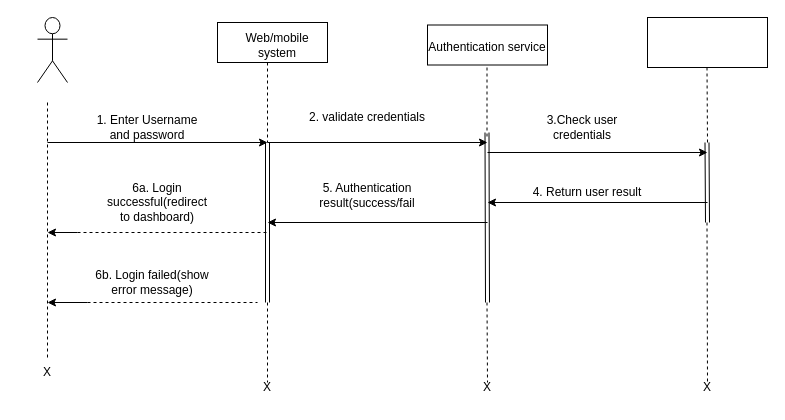
The diagram is 785 pixels wide and 420 high, and some of its shapes have lost their labels. The box of each missing label's shape, as (x1, y1, x2, y2) in pixels:
Actor: (36, 16, 68, 82)
Datsbase: (646, 16, 768, 68)
